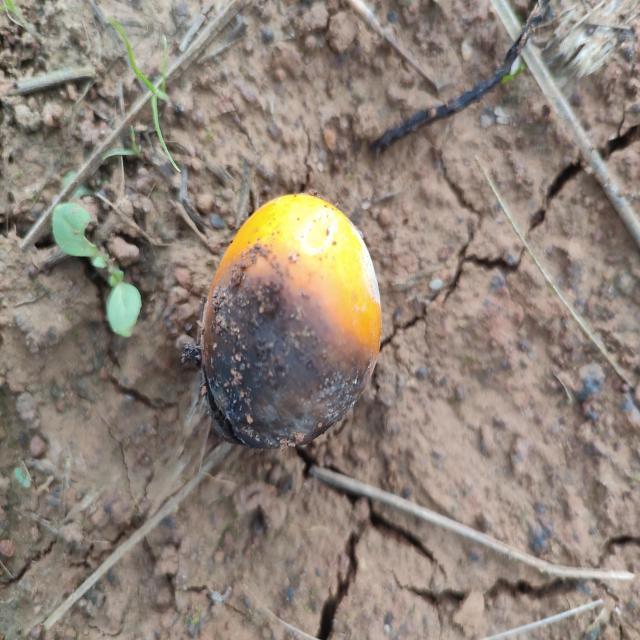damaged: (199, 194, 383, 453)
